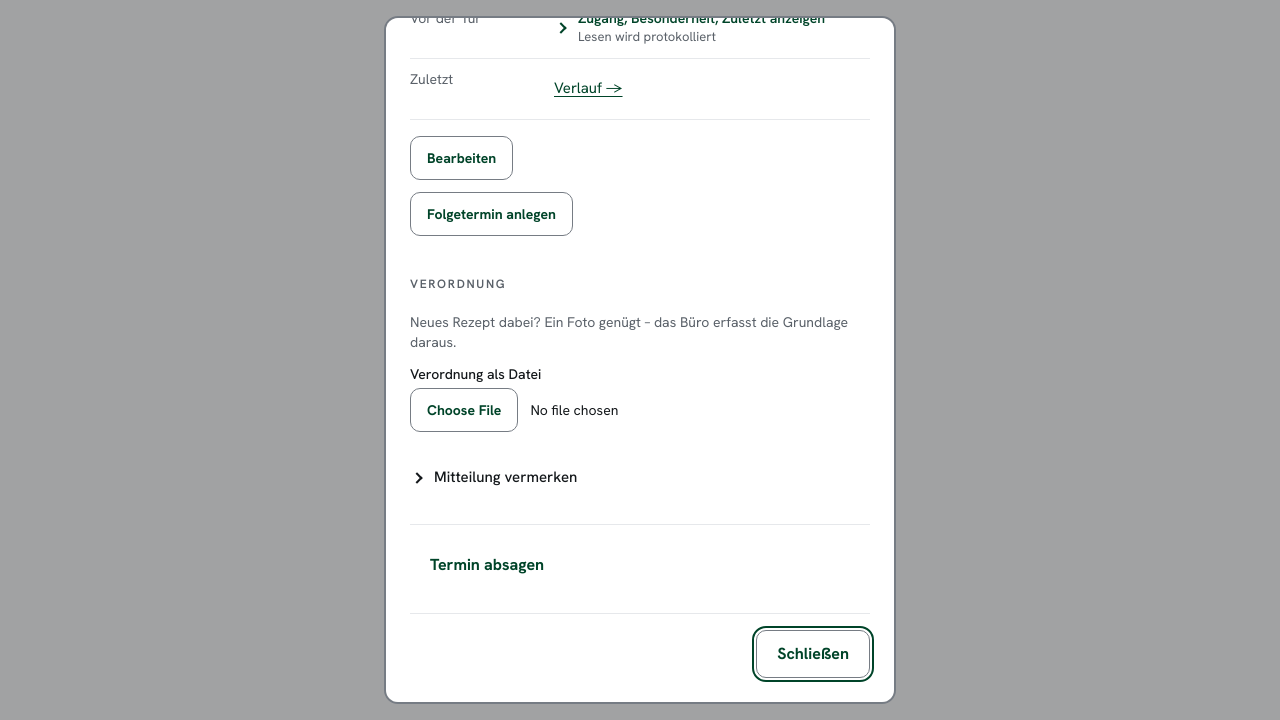
Test case: TerminAktionenDialog › Aktionen (CAL-003) › sagt ohne ausgewaehlten Grund nicht ab (CAL-008b)
(page scrolled)
Click the button "Termin absagen". click: (487, 564)
box: [410, 540, 564, 588]
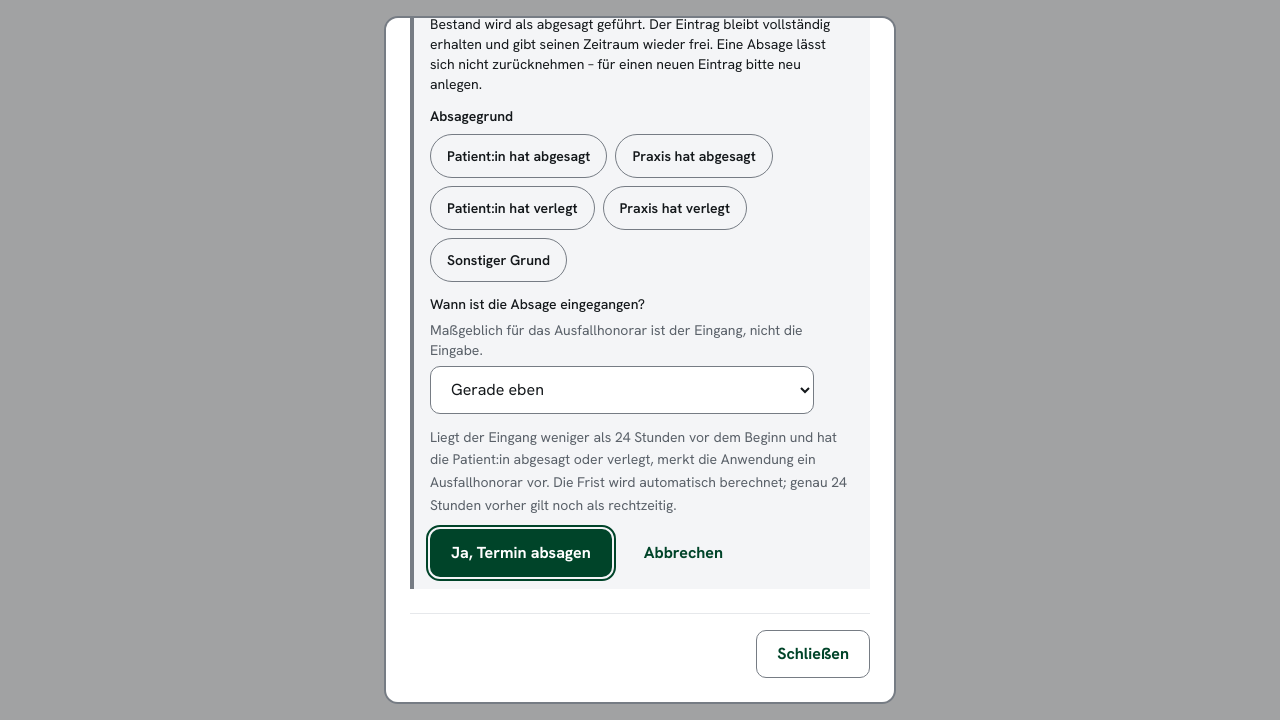
Click the button "Ja, Termin absagen". click: (521, 552)
box: [430, 528, 612, 576]
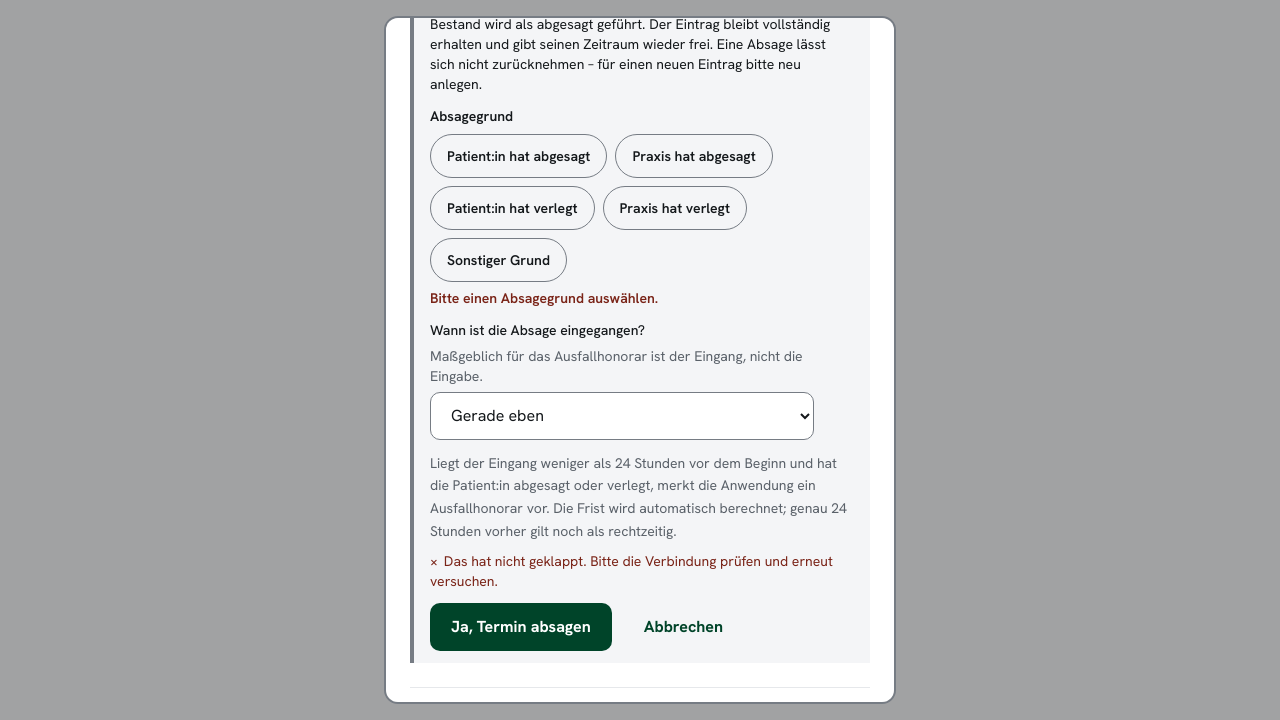
Check: the element "Absagegrund" is shown, box [430, 106, 773, 306]
Check: the text "Bitte einen Absagegrund auswählen." is shown, box [430, 288, 658, 306]
